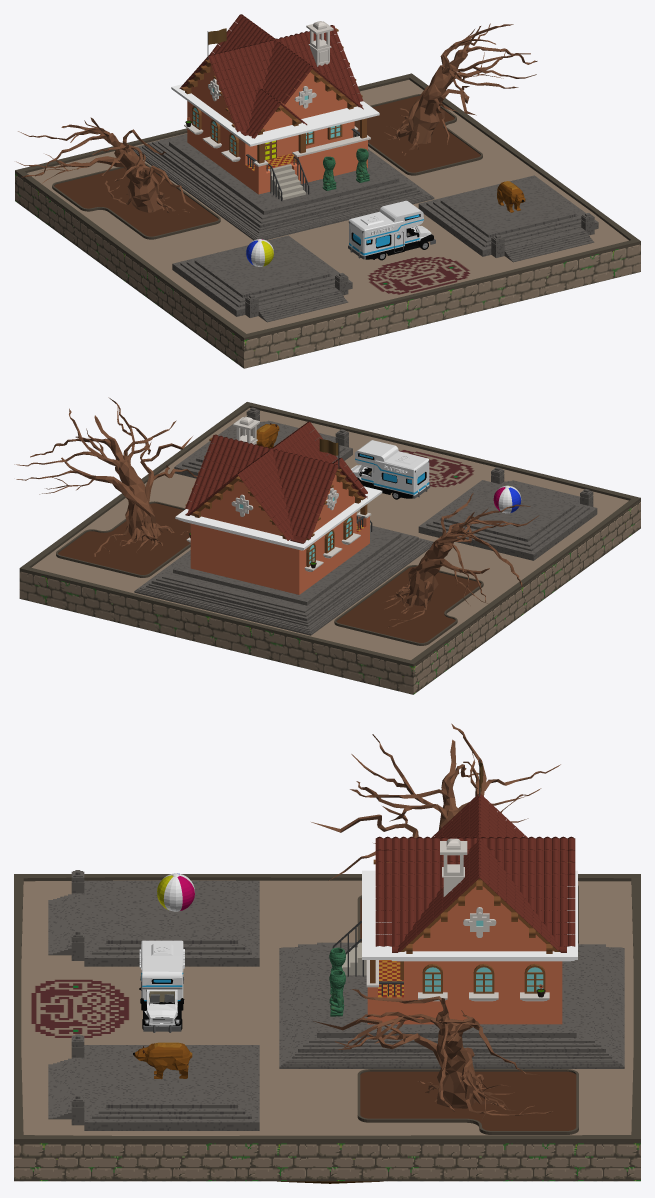
3 views of the same model, one above another, from view 1: azimuth 30°, elevation 25°; view 2: azimuth 150°, elevation 25°; view 3: azimuth 270°, elevation 25° (orthographic). The views are drawn at different scales.
Parts seen in each view (by area): view 1: Cube.011, Cube.1141, VEHICLES_CAMPER, OBJRANDOM_BEACHBALL, ANIMAL_OSO; view 2: Cube.011, Cube.1141, VEHICLES_CAMPER, OBJRANDOM_BEACHBALL, ANIMAL_OSO; view 3: Cube.011, Cube.1141, VEHICLES_CAMPER, ANIMAL_OSO, OBJRANDOM_BEACHBALL.
Boxes of the visible parts, bbox=[...] form: Cube.011: bbox=[15, 23, 640, 368]; Cube.1141: bbox=[171, 14, 379, 201]; VEHICLES_CAMPER: bbox=[348, 200, 435, 260]; OBJRANDOM_BEACHBALL: bbox=[246, 239, 273, 266]; ANIMAL_OSO: bbox=[497, 181, 525, 212]; Cube.011: bbox=[14, 397, 640, 694]; Cube.1141: bbox=[175, 416, 382, 594]; VEHICLES_CAMPER: bbox=[350, 440, 430, 499]; OBJRANDOM_BEACHBALL: bbox=[493, 485, 521, 513]; ANIMAL_OSO: bbox=[256, 423, 279, 448]; Cube.011: bbox=[14, 723, 640, 1181]; Cube.1141: bbox=[332, 759, 577, 1024]; VEHICLES_CAMPER: bbox=[139, 940, 184, 1032]; ANIMAL_OSO: bbox=[133, 1042, 192, 1079]; OBJRANDOM_BEACHBALL: bbox=[157, 873, 194, 911].
Size of the model in its own units: 5099 by 1880 by 4000.
Materials: 43 (5 with a texture image).
